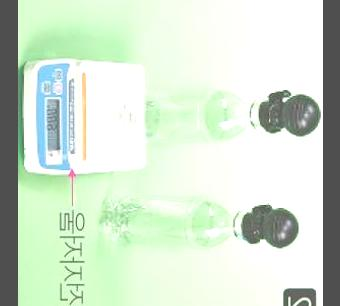bottle: (106, 82, 320, 152), (100, 186, 299, 256)
